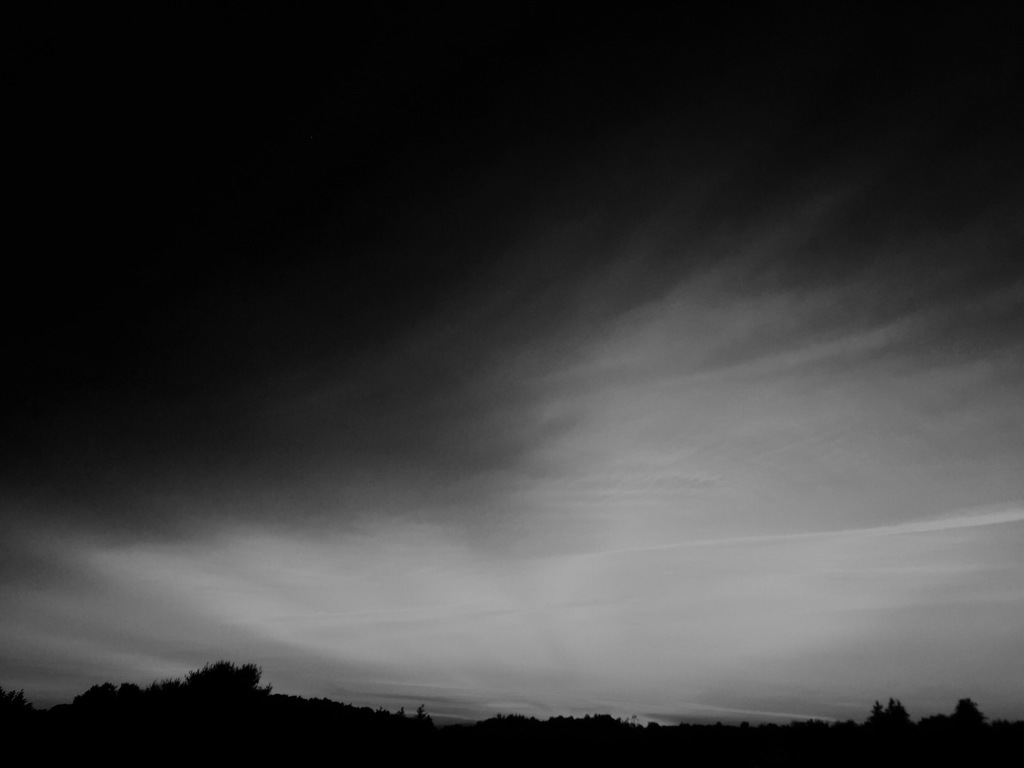Tree: (182, 653, 259, 698)
